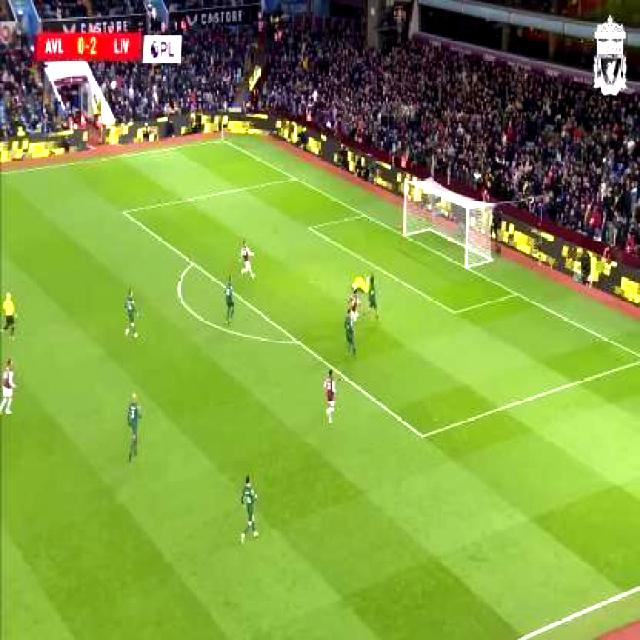bigarea_bottom_inner: (416, 428, 430, 446)
bigarea_top_inner: (120, 205, 129, 220)
bigarea_top_outter: (291, 174, 300, 183)
bottom_arc_area_intersection: (290, 332, 304, 351)
corner: (217, 138, 228, 144)
smallarea_bottom_inner: (449, 305, 458, 320)
smallarea_bottom_outter: (512, 289, 520, 300)
smallarea_top_inner: (306, 223, 314, 234)
smallarea_top_outter: (360, 209, 369, 220)
top_arc_area_intersection: (188, 255, 198, 272)
